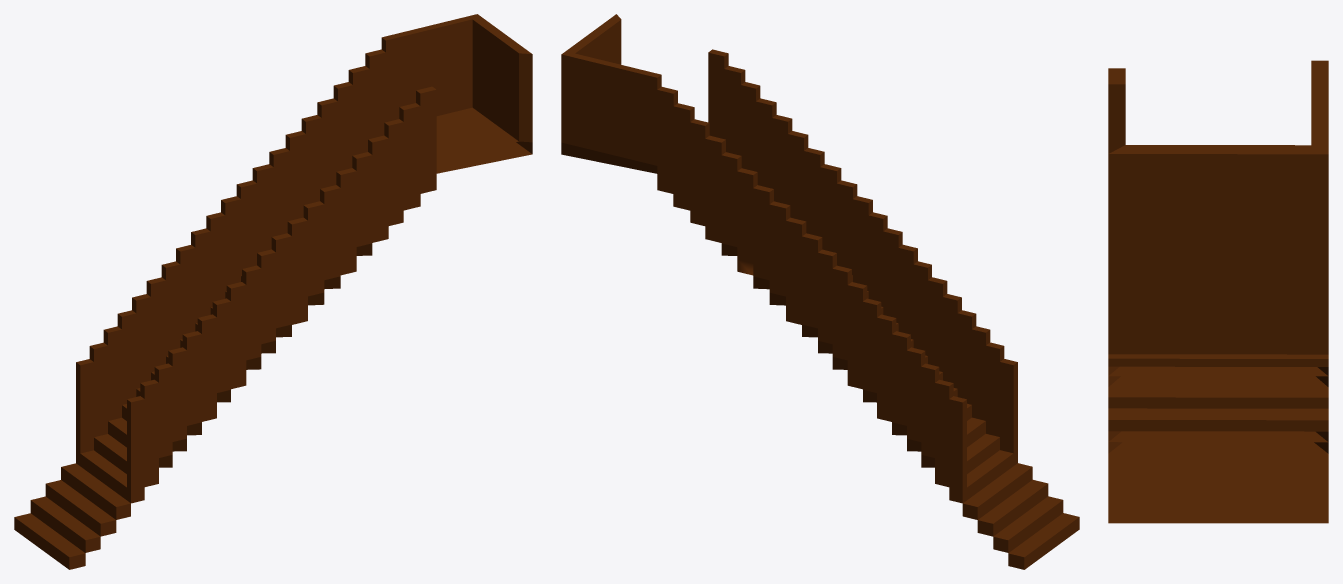
The model's file is WindmillStairs.fbx.
The picture shows the model from 3 angles, left to right: view 1: azimuth 30°, elevation 25°; view 2: azimuth 150°, elevation 25°; view 3: azimuth 270°, elevation 25°; orthographic projection. The views are drawn at different scales.
Visible parts, largest first — view 1: Windmill.002; view 2: Windmill.002; view 3: Windmill.002.
Part boxes in pixels (box(x1,y1,x2,y2)): Windmill.002: box(14, 14, 532, 569); Windmill.002: box(561, 14, 1079, 569); Windmill.002: box(1108, 60, 1328, 523).
Bounding box in the file's own units: 8.25 × 6.85 × 1.7.
